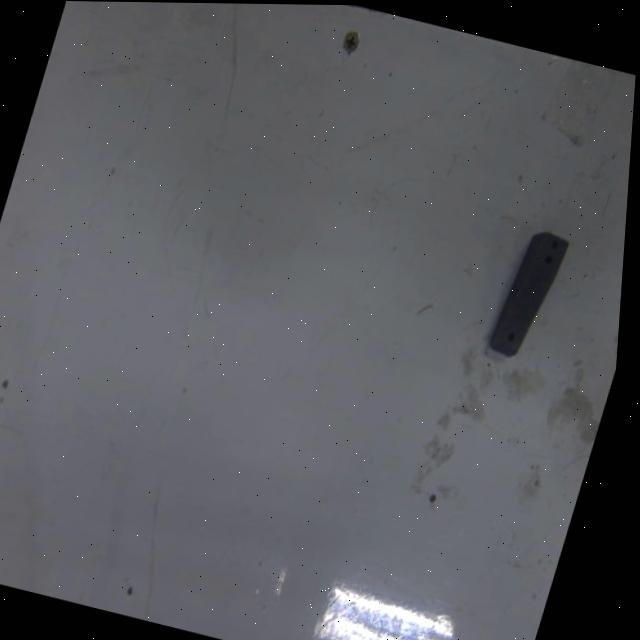grey: (486, 222, 573, 363)
head: (503, 328, 516, 344)
